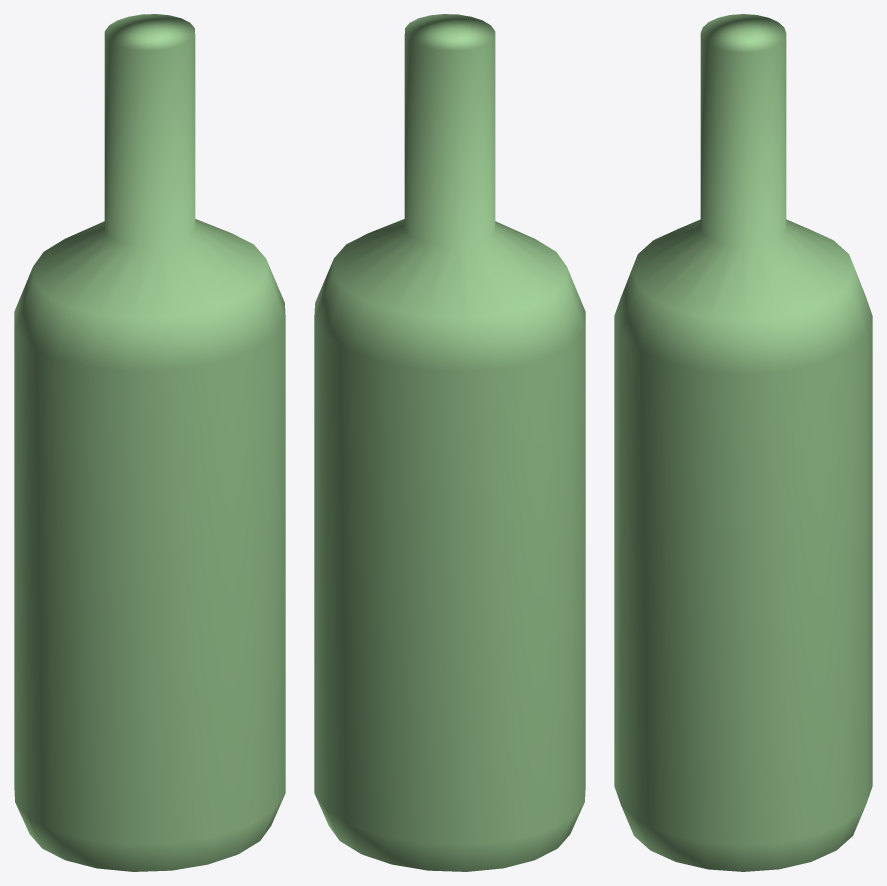
File: BAR_LiqourBottle10_Body.fbx
3 renders of one model, left to right at view 1: azimuth 30°, elevation 25°; view 2: azimuth 150°, elevation 25°; view 3: azimuth 270°, elevation 25°, orthographic.
Parts seen in each view (by area): view 1: Bottle10_Body; view 2: Bottle10_Body; view 3: Bottle10_Body.
Part boxes in pixels (x1,y1,x2,y2): Bottle10_Body: (14, 14, 285, 871); Bottle10_Body: (314, 14, 585, 871); Bottle10_Body: (614, 14, 872, 871).
Bounding box in the file's own units: 8.45 × 26.41 × 7.86.
